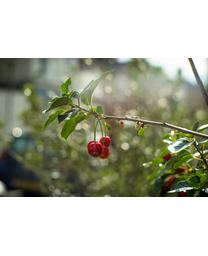cherry: (88, 141, 102, 157), (98, 145, 110, 158), (99, 136, 112, 147)
